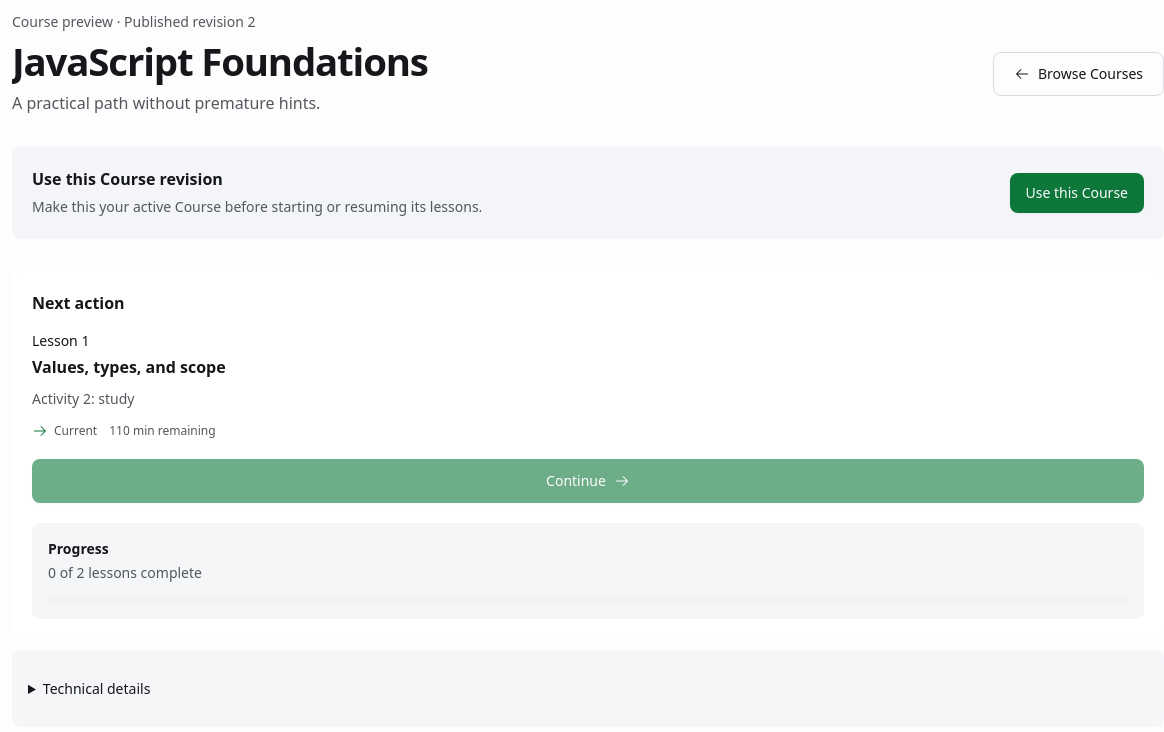
Test: Aptiloop Home › requires explicit Course selection before starting its lesson
Check: the text "Course preview · Published revision 2" is shown, box [12,12,256,31]
Check: the button "Continue" is disabled, box [32,459,1144,503]
Click the button "Use this Course": (1077, 193) [1010,173,1144,213]
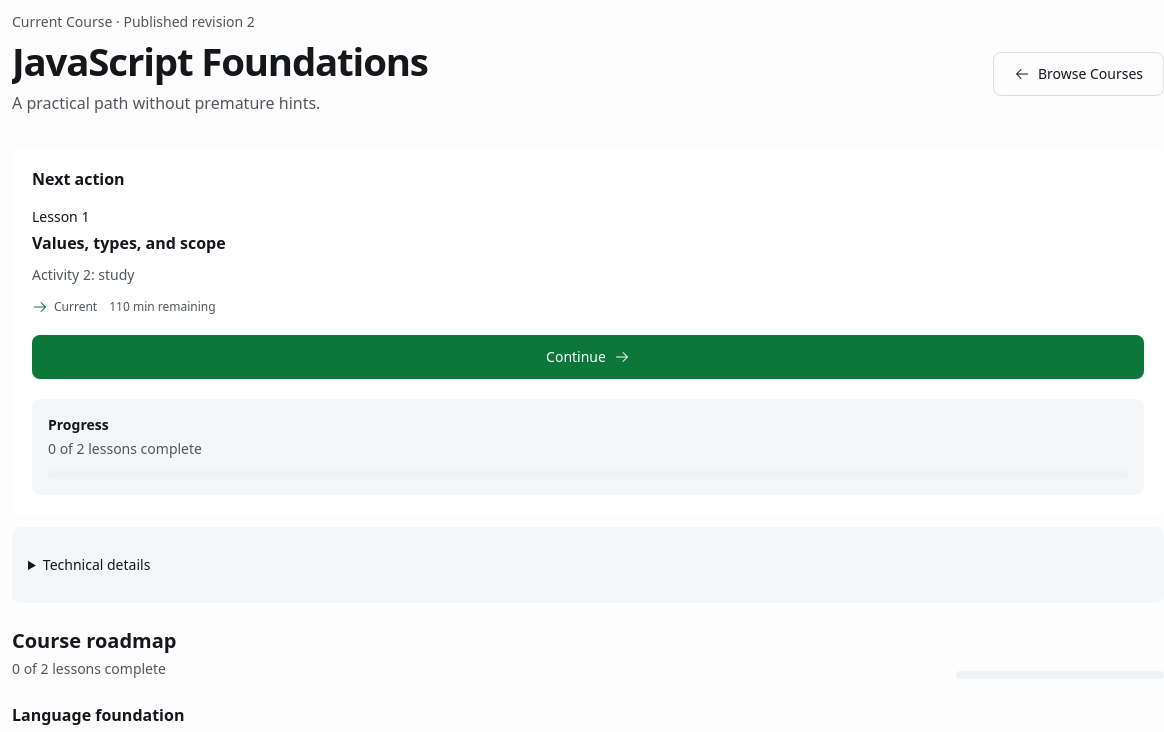
Check: the button "Continue" is enabled, box [32,335,1144,379]
